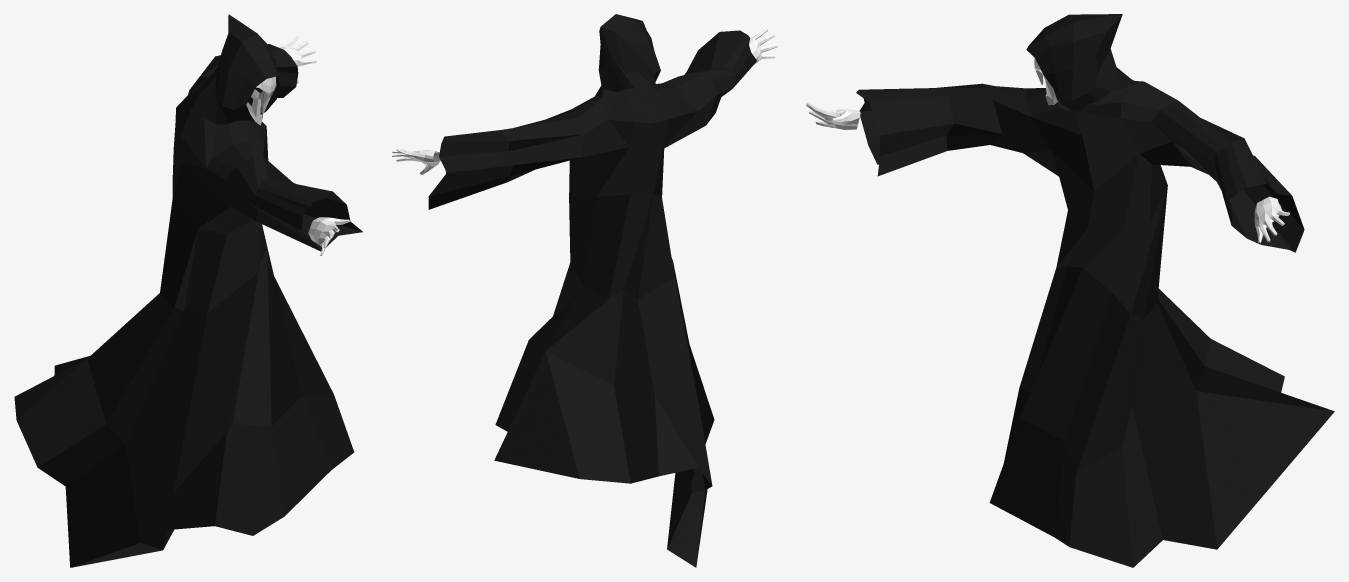
The model's file is ReaperAttack(26).obj.
3 views of the same model, side by side, from view 1: azimuth 30°, elevation 25°; view 2: azimuth 150°, elevation 25°; view 3: azimuth 270°, elevation 25° (orthographic). The views are drawn at different scales.
Visible parts, largest first — view 1: Plane003; view 2: Plane003; view 3: Plane003.
Boxes of the visible parts, x1=… form: Plane003: x1=14, y1=14, x2=362, y2=567; Plane003: x1=392, y1=14, x2=777, y2=567; Plane003: x1=806, y1=14, x2=1334, y2=567.
Size of the model in its own units: 144 by 234 by 192.
